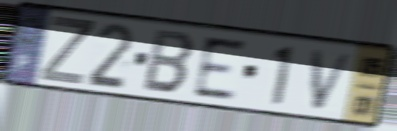1: (271, 44, 299, 107)
2: (83, 22, 136, 92)
B: (140, 27, 196, 97)
E: (192, 34, 249, 102)
V: (310, 47, 357, 113)
Z: (37, 14, 97, 88)
